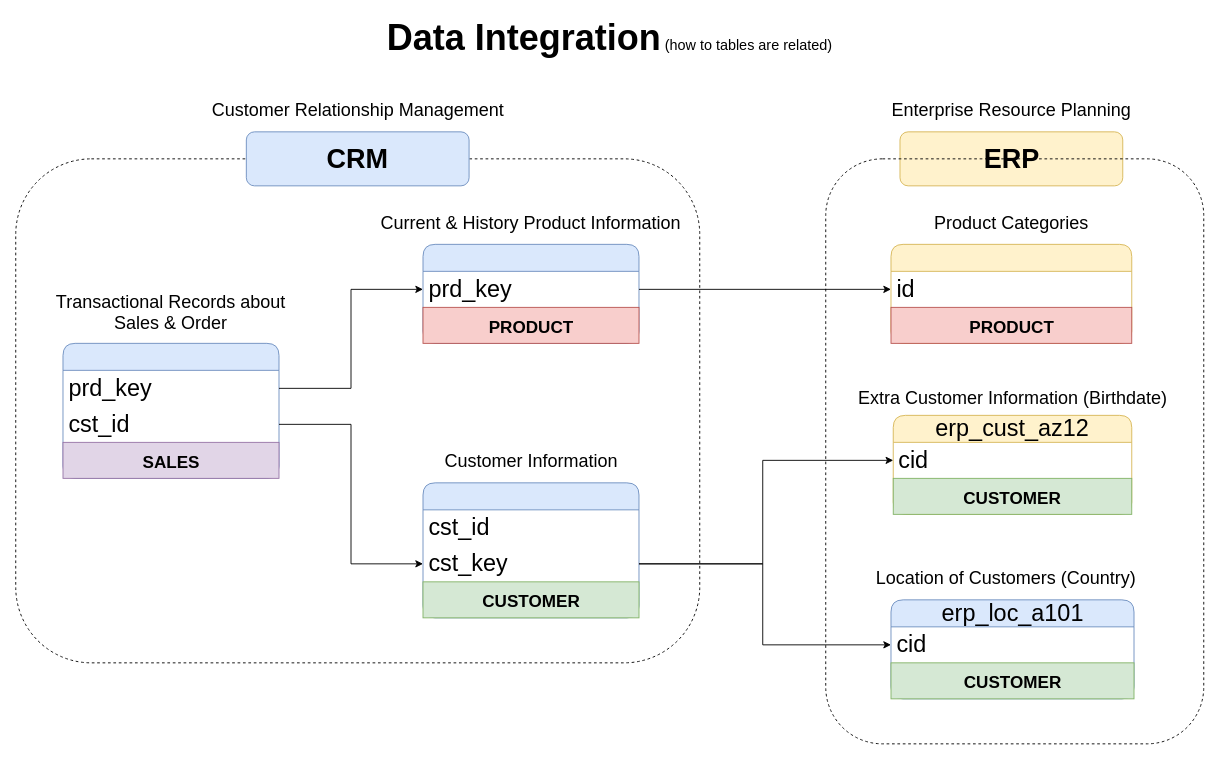
Some shapes in this 1220 by 760 pixel diagram are drawn without their labels. The box of each missing label's shape, as (x1, y1, x2, y2) in pixels:
crm_cust_info: (422, 482, 639, 618)
crm_prd_info: (422, 243, 639, 343)
crm_sales_details: (62, 342, 279, 478)
erp_px_cat_g1v2: (890, 243, 1132, 343)
